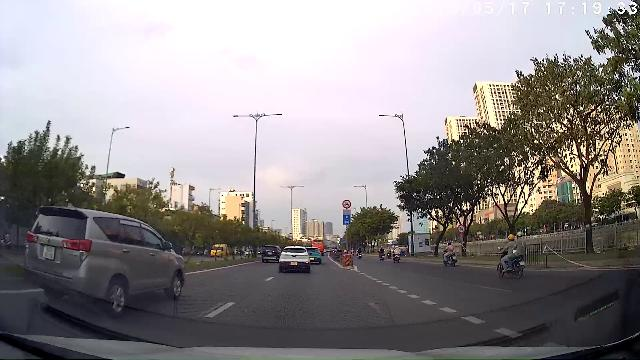103a-cam-oto: (457, 225, 465, 233)
